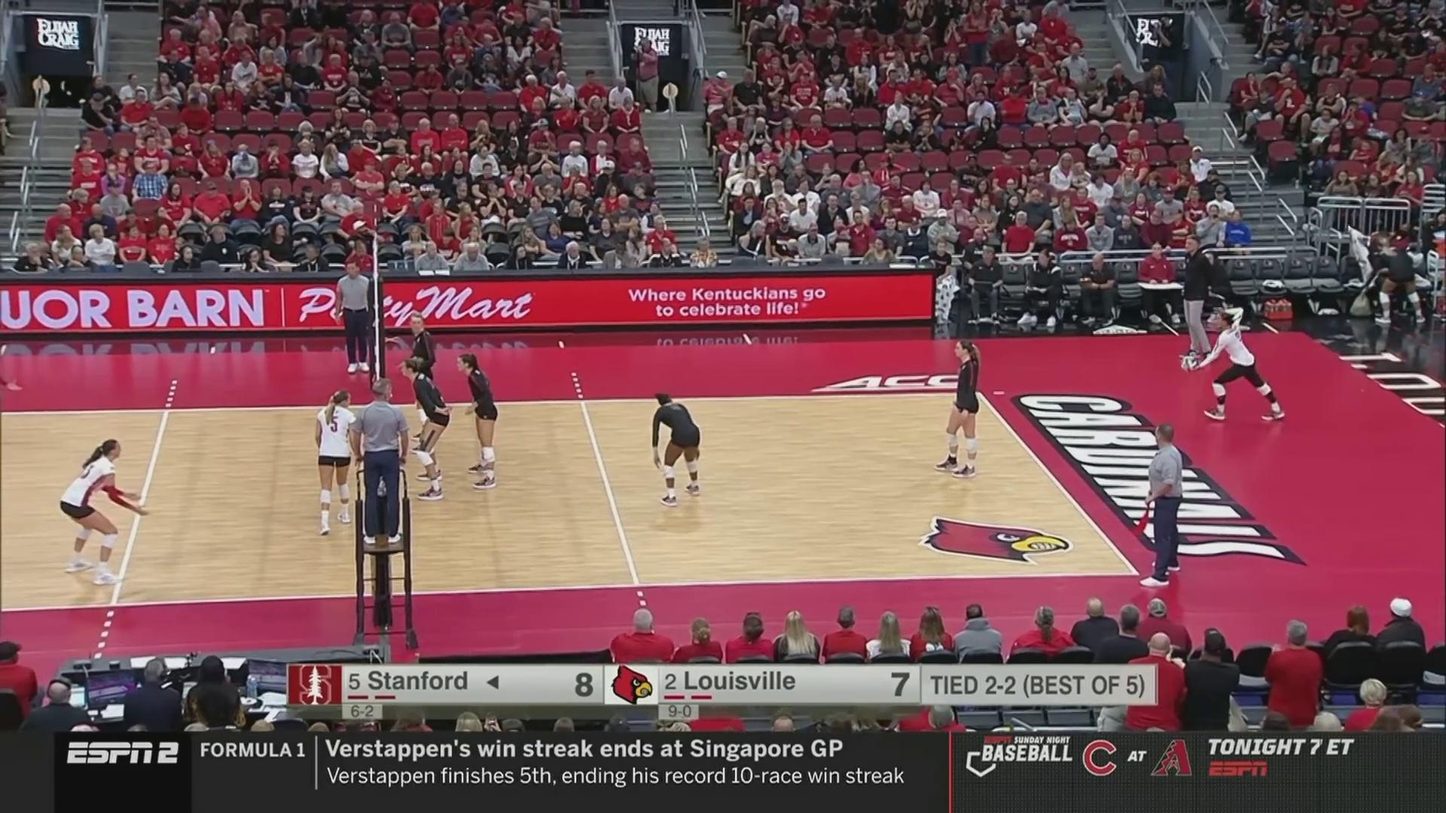player: (59, 440, 147, 579), (1190, 308, 1286, 420), (400, 357, 449, 500), (935, 341, 982, 475), (650, 395, 703, 505), (456, 354, 498, 487), (316, 391, 355, 534), (407, 312, 438, 454)
refree: (354, 381, 409, 543), (1146, 423, 1187, 586), (335, 260, 371, 370)
